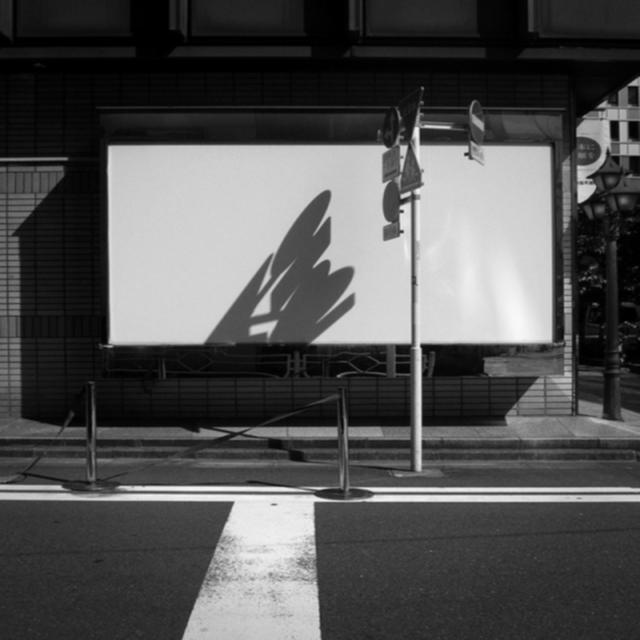pole: (405, 108, 428, 472), (598, 214, 626, 422)
warning_column: (329, 384, 355, 491), (80, 380, 99, 480)
